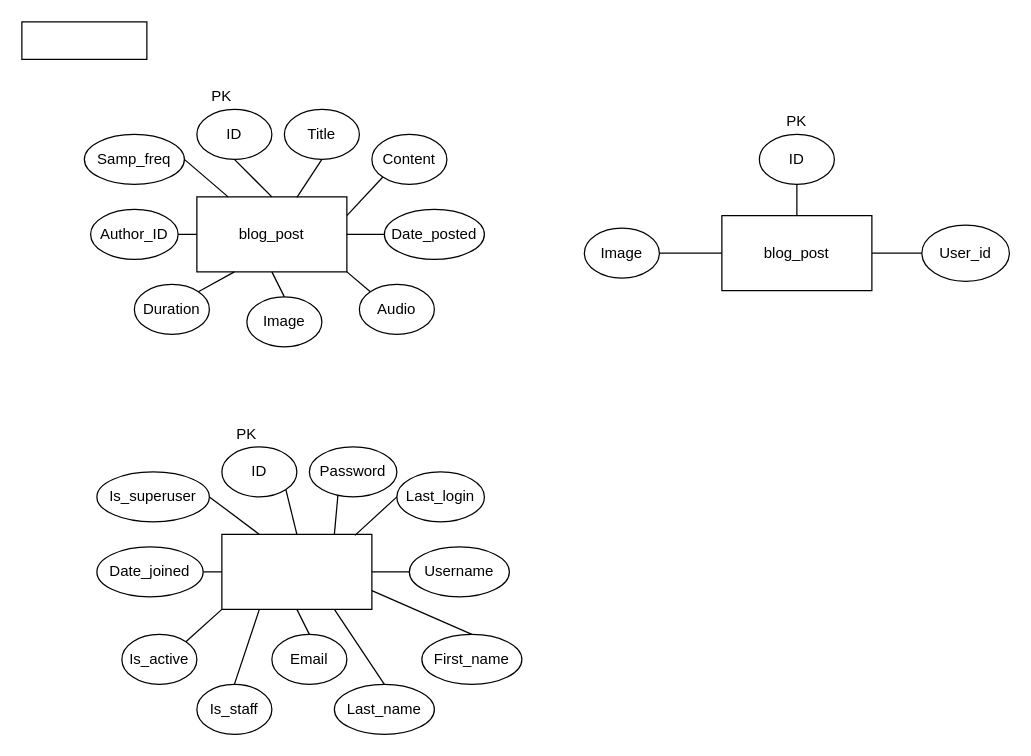
Some shapes in this 1031 by 756 pixel diagram are drawn without their labels. The shapes that lost their labels are listed below. From the top down, each one's centre as x and y in pixels, then its label:
At [84,40]: "Primary Key = PK".
At [296,571]: "auth_user".
